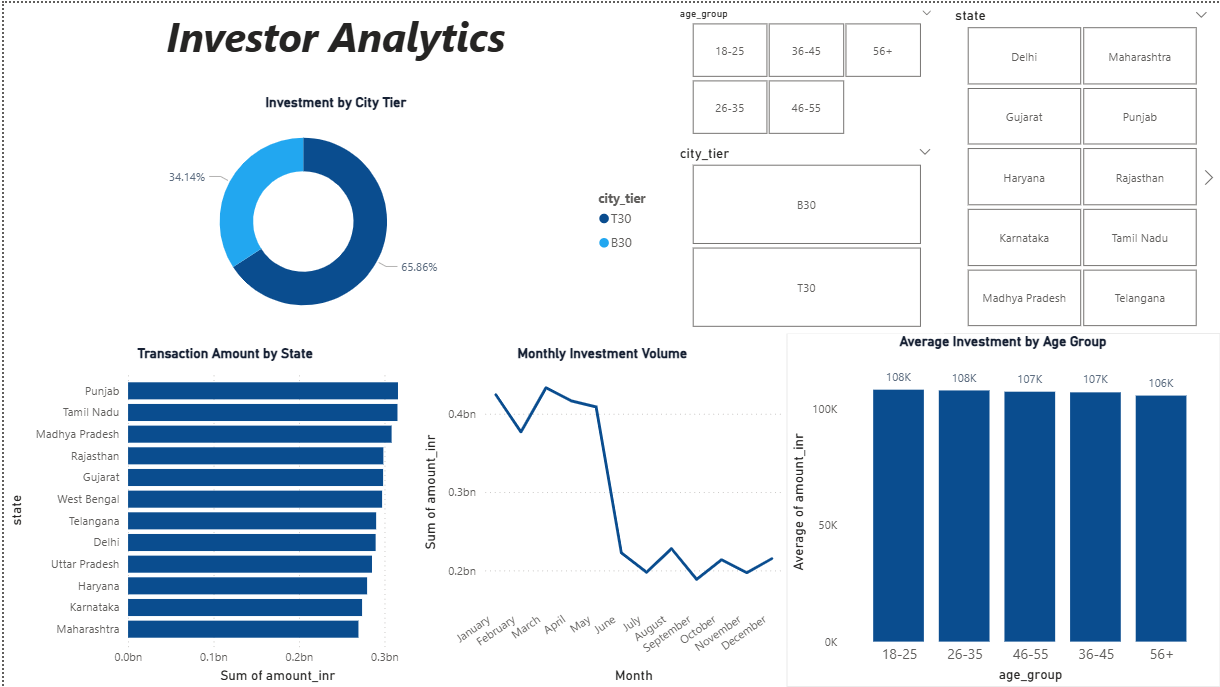

The dashboard page shown, as its layout file describes it:
{"tool":"powerbi","page":{"name":"Investor Analytics","canvas":[1280,720],"ordinal":2},"visuals":[{"type":"clusteredBarChart","title":"Transaction Amount by State","fields":{"Category":["Transactions.state"],"Y":["Sum(Transactions.amount_inr)"]},"box":[0,360,465.7,360],"z":0},{"type":"donutChart","title":"Investment by City Tier","fields":{"Y":["Sum(Transactions.amount_inr)"],"Category":["Transactions.city_tier"]},"box":[0,95.7,698.6,251.4],"z":1000},{"type":"lineChart","title":"Monthly Investment Volume","fields":{"Category":["Transactions.transaction_date.Variation.Date Hierarchy.Month"],"Y":["Sum(Transactions.amount_inr)"]},"box":[435.7,360,388.6,360],"z":2000},{"type":"clusteredColumnChart","title":"Average Investment by Age Group","fields":{"Category":["Transactions.age_group"],"Y":["Avg(Transactions.amount_inr)"]},"box":[824.3,347.1,455.7,372.9],"z":3000},{"type":"slicer","fields":{"Values":["Transactions.state"]},"box":[988.6,0,291.4,347.1],"z":4000},{"type":"slicer","fields":{"Values":["Transactions.age_group"]},"box":[698.6,0,290,144.3],"z":5000},{"type":"slicer","fields":{"Values":["Transactions.city_tier"]},"box":[698.6,144.3,290,202.9],"z":6000},{"type":"textbox","box":[0,0,698.6,72.9],"z":7000}]}

Visuals, with their boxes in screenshot pixels (x1, y1, x2, y2), scaled from the page's 1280x720 canvas onto the 1220x687 screenshot:
"Transaction Amount by State" clusteredBarChart: 0 344 444 686
"Investment by City Tier" donutChart: 0 91 666 331
"Monthly Investment Volume" lineChart: 415 344 786 686
"Average Investment by Age Group" clusteredColumnChart: 786 331 1219 686
slicer - Transactions.state: 942 0 1219 331
slicer - Transactions.age_group: 666 0 942 138
slicer - Transactions.city_tier: 666 138 942 331
textbox: 0 0 666 70
